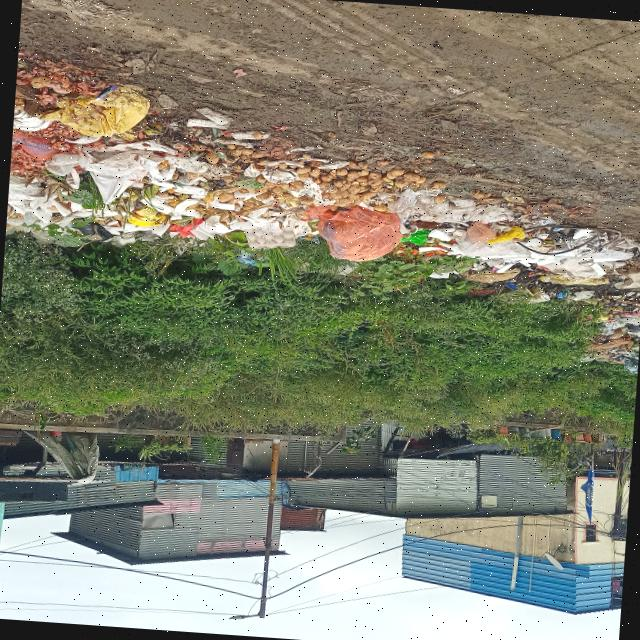garbage: (6, 52, 560, 316), (561, 211, 640, 371)
